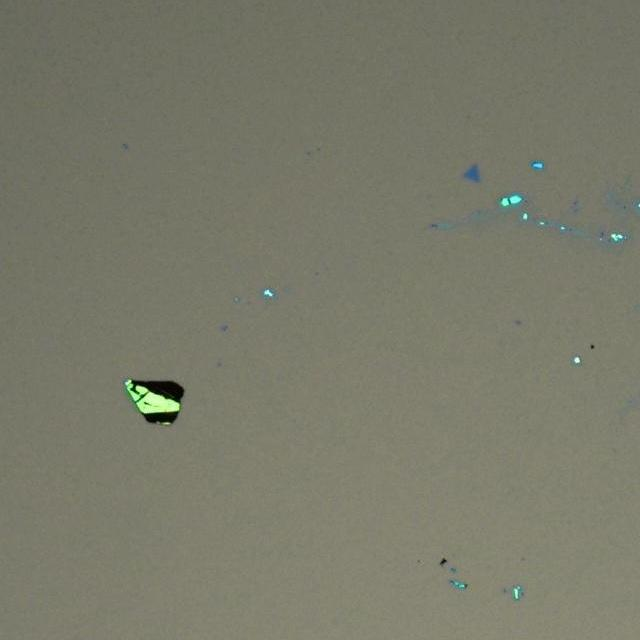monolayer-eWW4: (463, 160, 483, 183)
